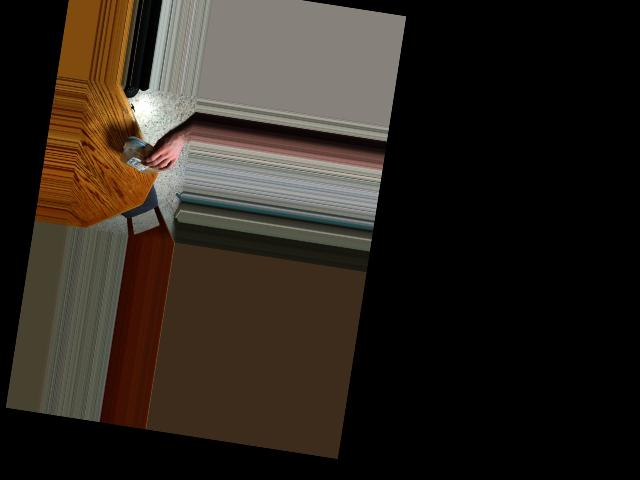cheese: (121, 137, 164, 176)
